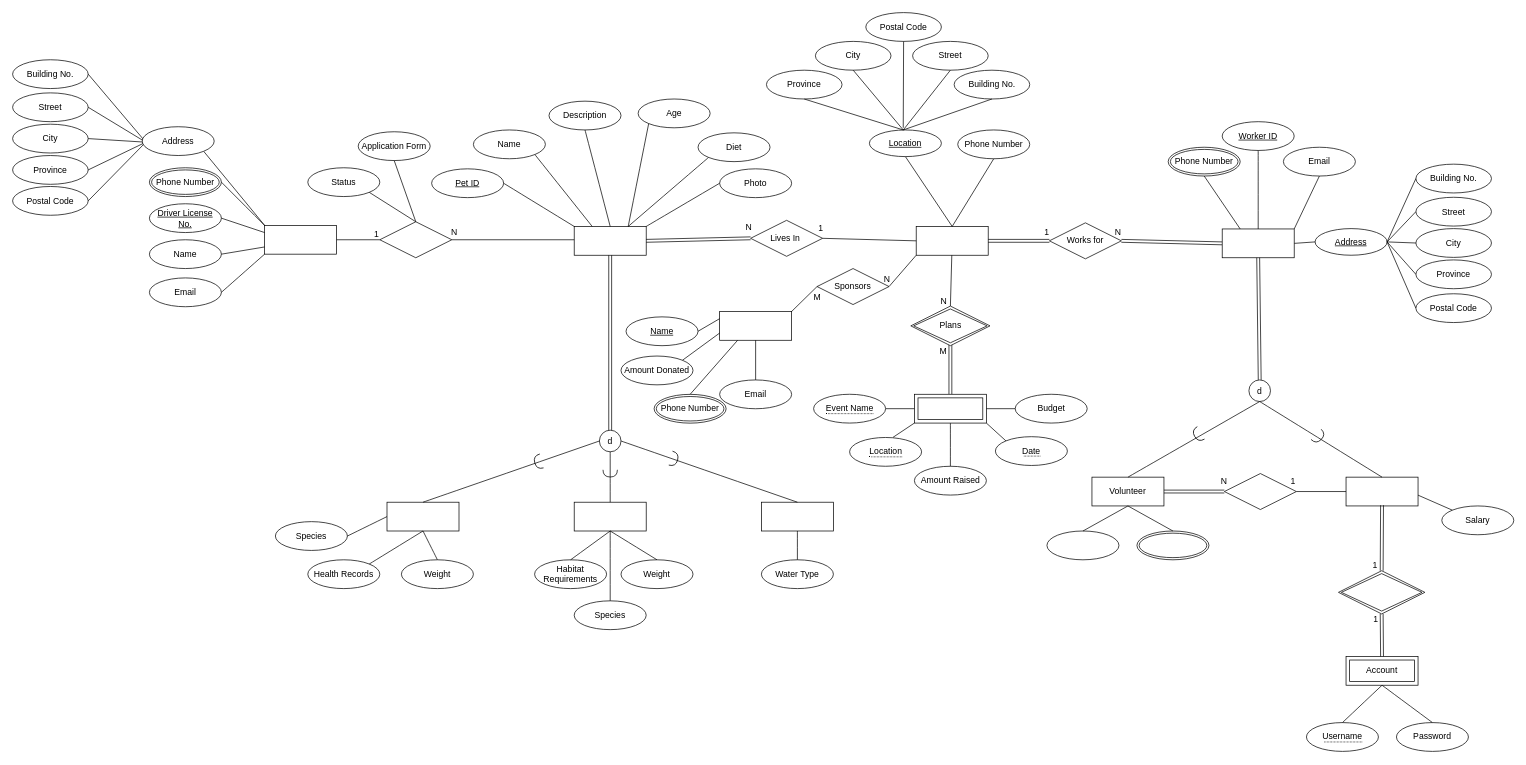
Image size: 1526x765. Some labels were removed from this diagram. Each missing label, with the centre of its shape:
"Accesses" belongs at (x=1381, y=592).
"Adopter" belongs at (x=300, y=239).
"Adopts" belongs at (x=415, y=239).
"Animal" belongs at (x=609, y=240).
"Exotics" belongs at (x=609, y=516).
"Fish" belongs at (x=797, y=516).
"Fundraiser" belongs at (x=950, y=408).
"Hours Worked" belongs at (x=1082, y=545).
"Mammals" belongs at (x=422, y=516).
"Responsibilities" belongs at (x=1172, y=545).
"Shelter (Branch)" belongs at (x=951, y=240).
"Sponsor" belongs at (x=755, y=325).
"Supervises" belongs at (x=1260, y=491).
"Supervisor" belongs at (x=1381, y=491).
"Worker" belongs at (x=1257, y=243).
